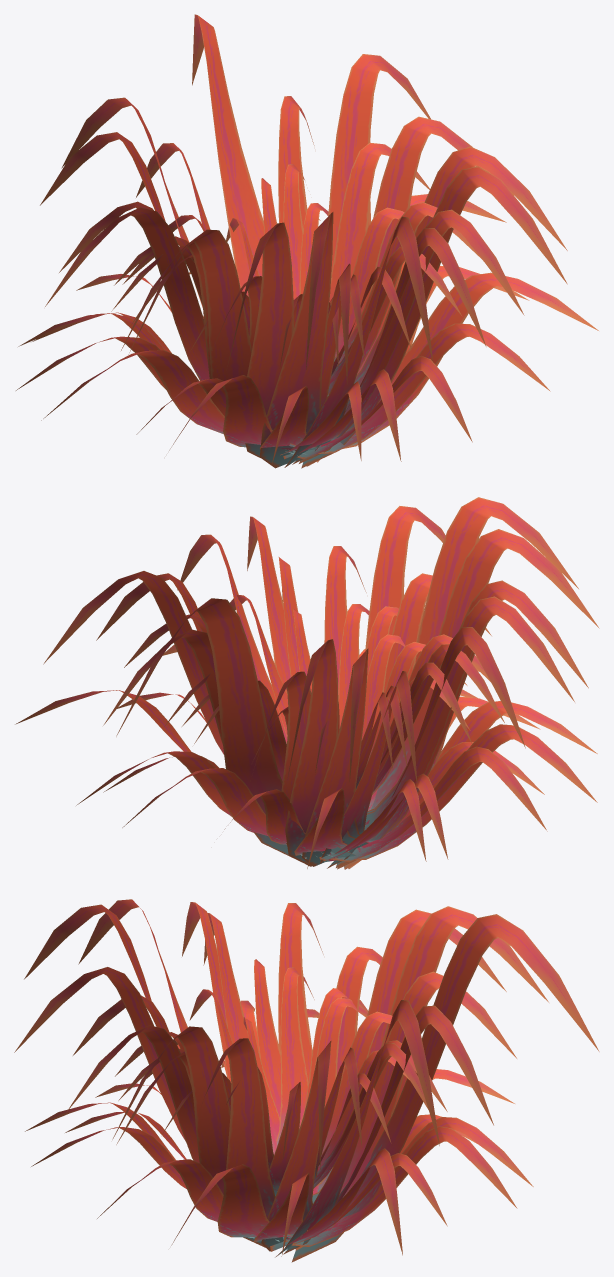
The model's file is BreadCrumbShrub.fbx.
The picture shows the model from 3 angles, top to bottom: view 1: azimuth 30°, elevation 25°; view 2: azimuth 150°, elevation 25°; view 3: azimuth 270°, elevation 25°; orthographic projection. The views are drawn at different scales.
Visible parts, largest first — view 1: BezierCurve.001; view 2: BezierCurve.001; view 3: BezierCurve.001.
Part boxes in pixels (box(x1,y1,x2,y2)): BezierCurve.001: box(16, 14, 598, 468); BezierCurve.001: box(15, 497, 599, 869); BezierCurve.001: box(14, 899, 599, 1262).
Size of the model in its own units: 84.5 by 54.16 by 83.2.
